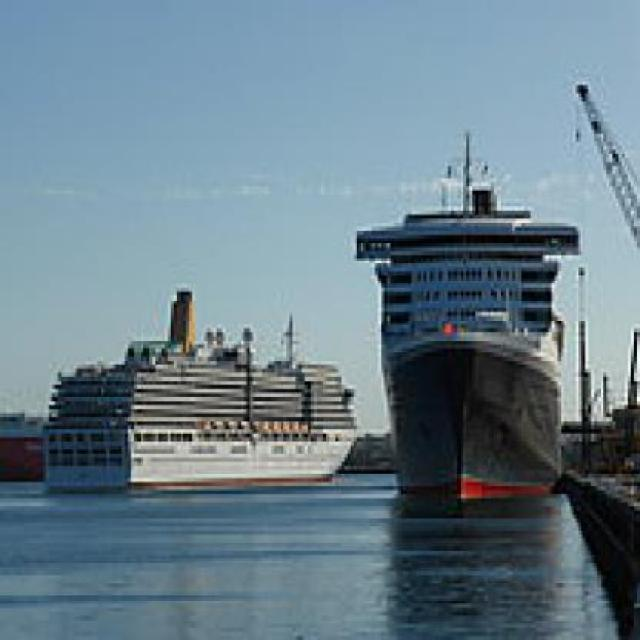cruise: (14, 280, 374, 536), (345, 151, 586, 508), (562, 62, 639, 633)
